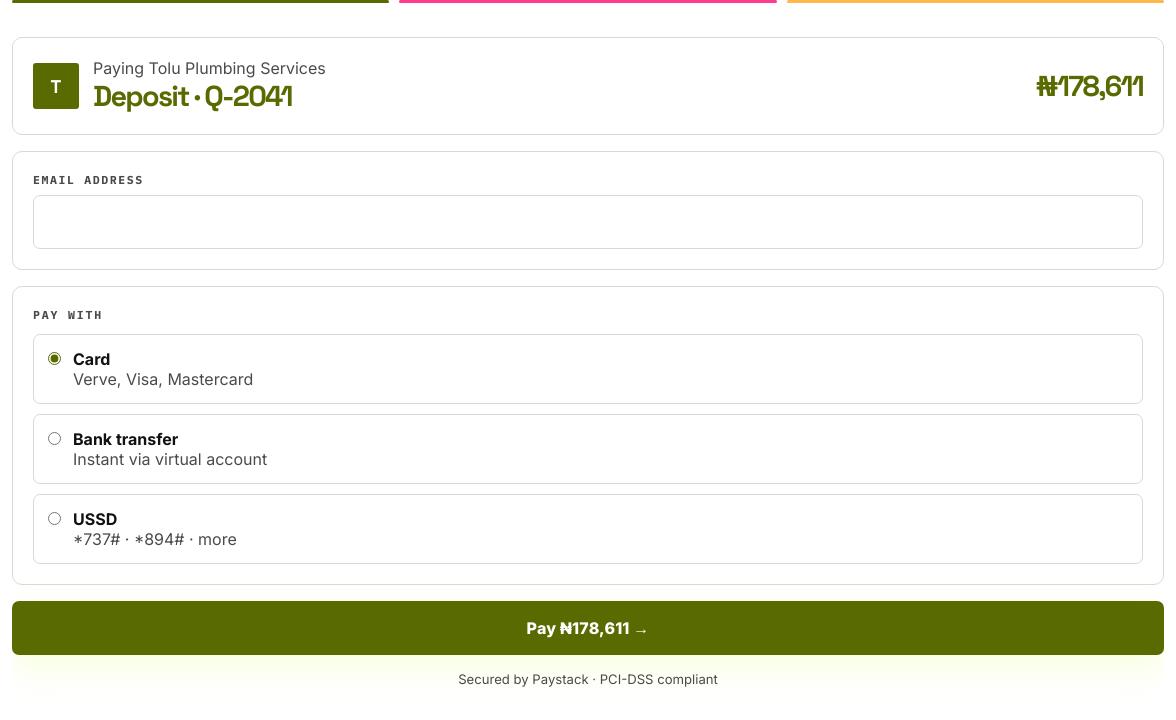
Scenario: PayQuoteForm › shows the API error message when initialization fails
Type "buyer@example.com" into the field labelled "Email address" at coordinates (588, 222), box top-left (33, 195), bottom-right (1143, 249)
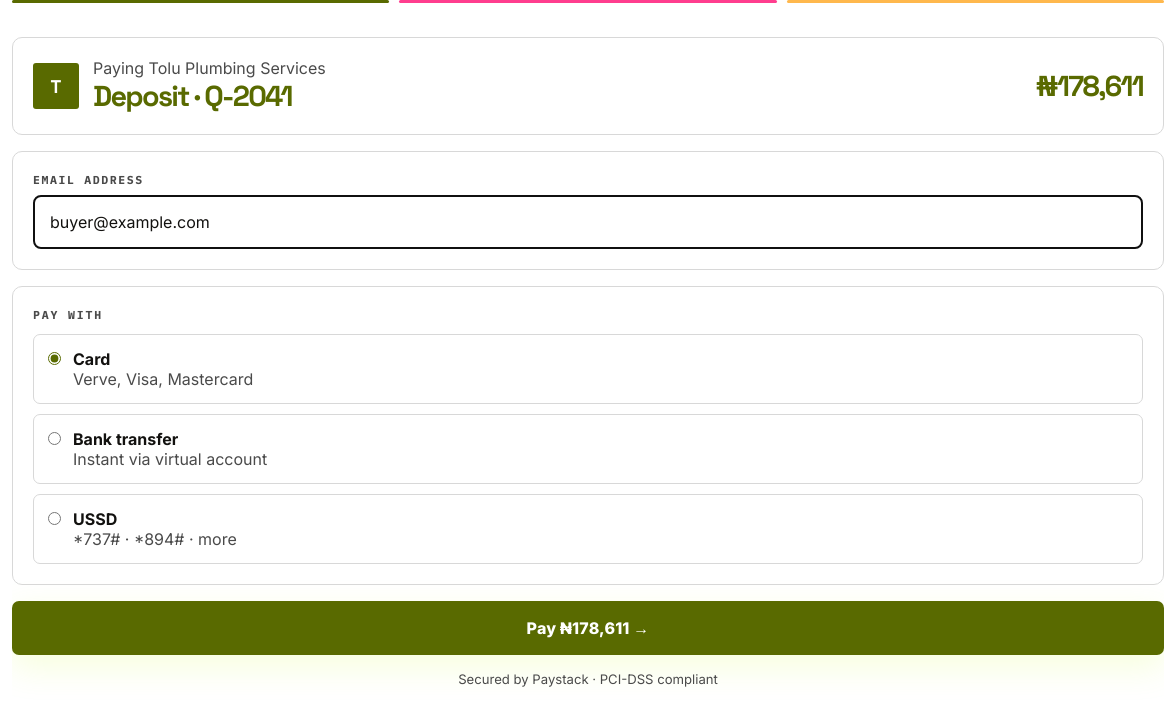
Click the button "Pay ₦178,611 →" at coordinates (588, 628), box top-left (12, 601), bottom-right (1164, 655)
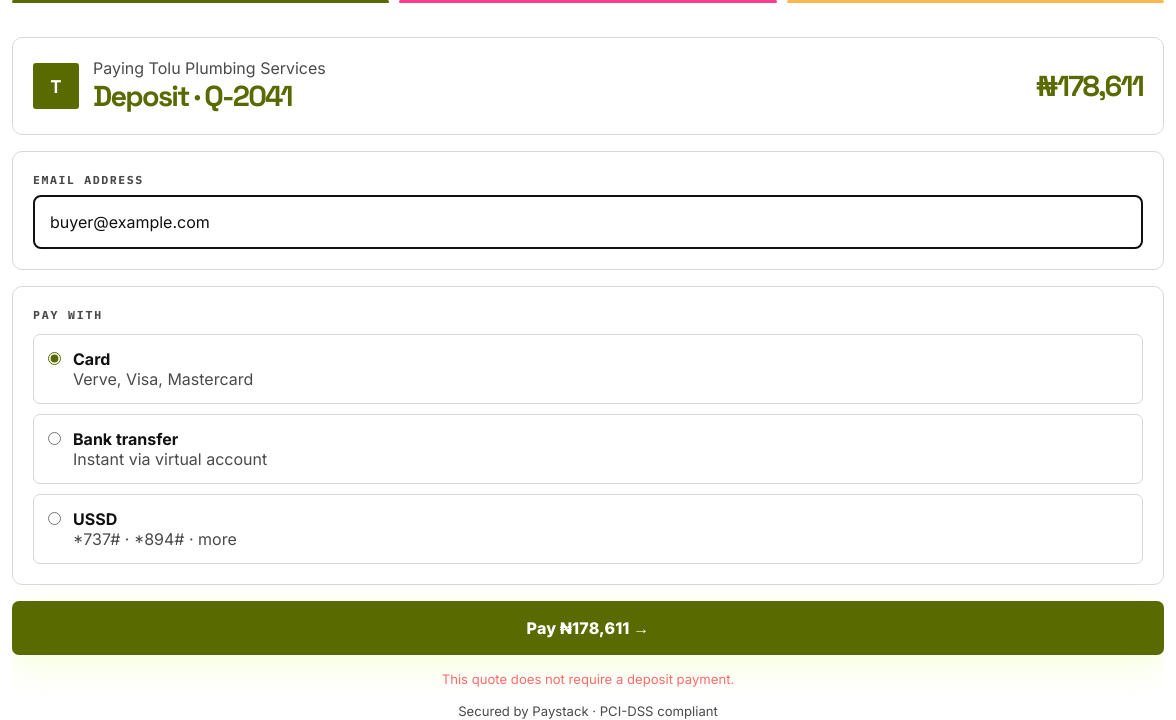
Expected: the text "This quote does not require a deposit payment." is shown, top-left (442, 671), bottom-right (734, 687)
